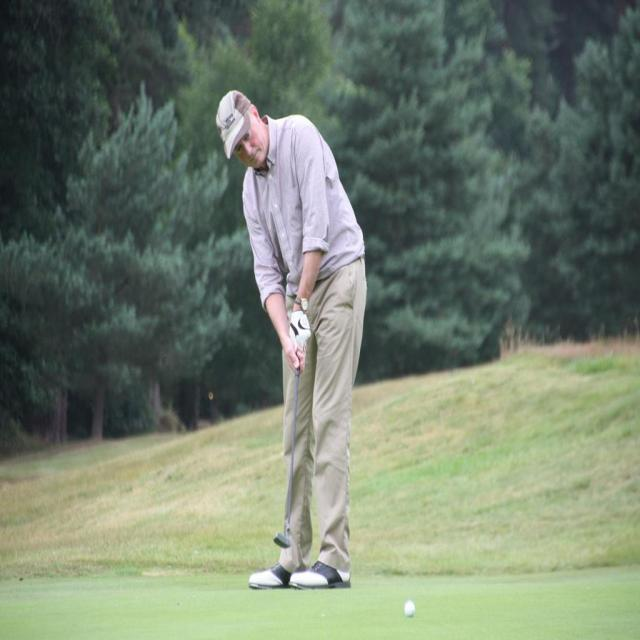ClubHead: (272, 512, 296, 556)
GolfBall: (398, 592, 422, 625)
